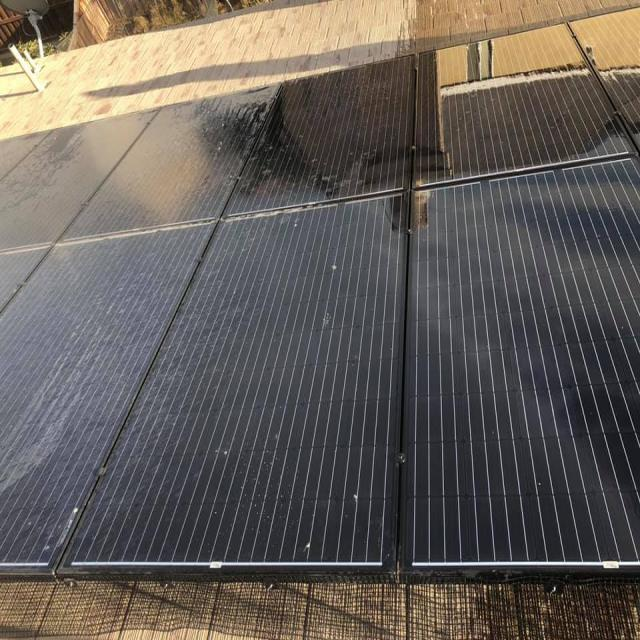clean-solar-panel: (225, 57, 415, 217), (415, 52, 631, 185)
dust-solar-panel: (1, 85, 640, 575)
